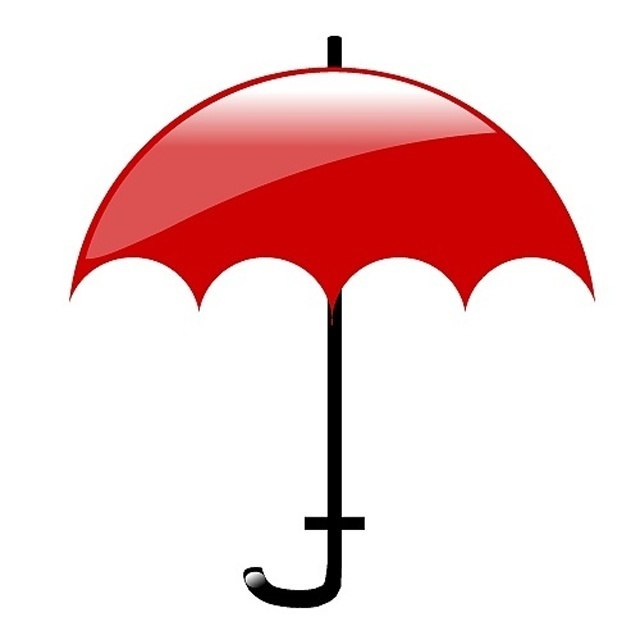umbrella: (64, 34, 599, 614)
